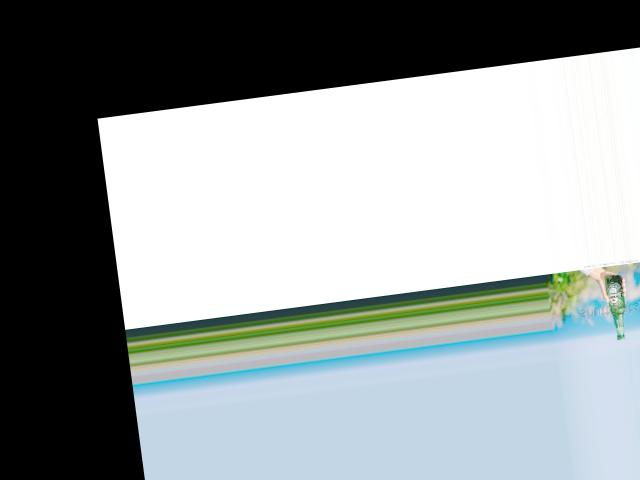beer: (604, 274, 629, 340)
